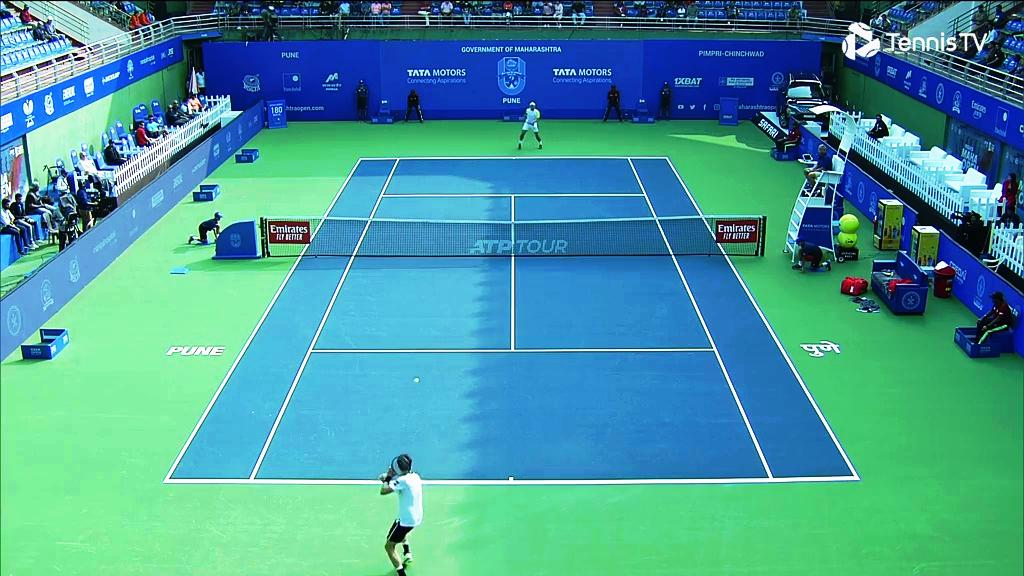tennis-court: (162, 157, 861, 484)
